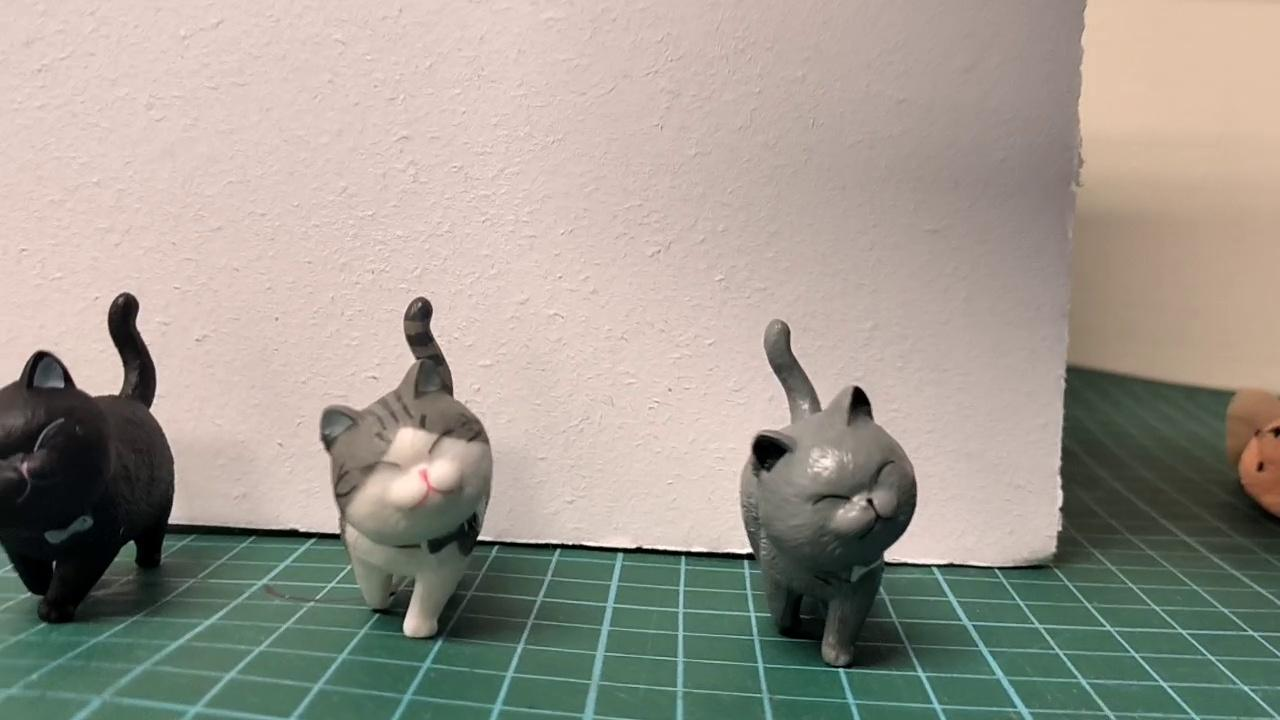pet: (736, 313, 919, 669), (318, 293, 497, 642), (0, 286, 176, 633)
